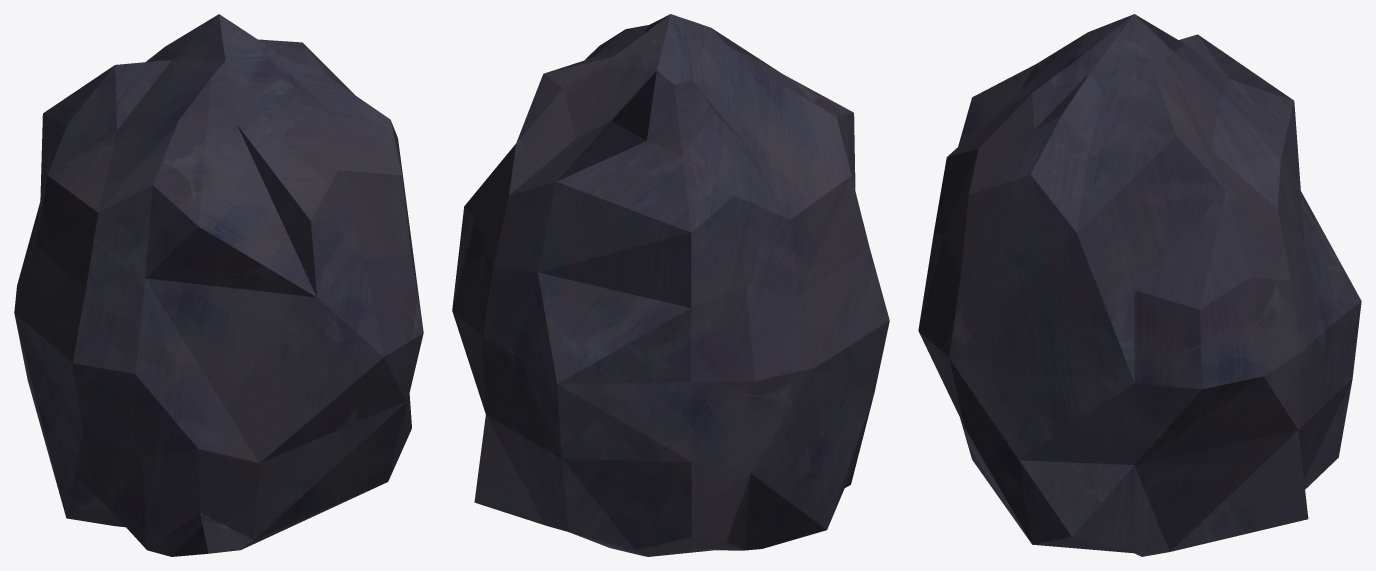
Rendered from Rock01.fbx.
The picture shows the model from 3 angles, left to right: view 1: azimuth 30°, elevation 25°; view 2: azimuth 150°, elevation 25°; view 3: azimuth 270°, elevation 25°; orthographic projection. The views are drawn at different scales.
Visible parts, largest first — view 1: Rock01; view 2: Rock01; view 3: Rock01.
Part boxes in pixels (box(x1,y1,x2,y2)): Rock01: box(14, 14, 423, 556); Rock01: box(452, 14, 889, 556); Rock01: box(918, 14, 1361, 556).
Size of the model in its own units: 1.31 by 1.81 by 1.37.
Materials: 1 (1 with a texture image).
